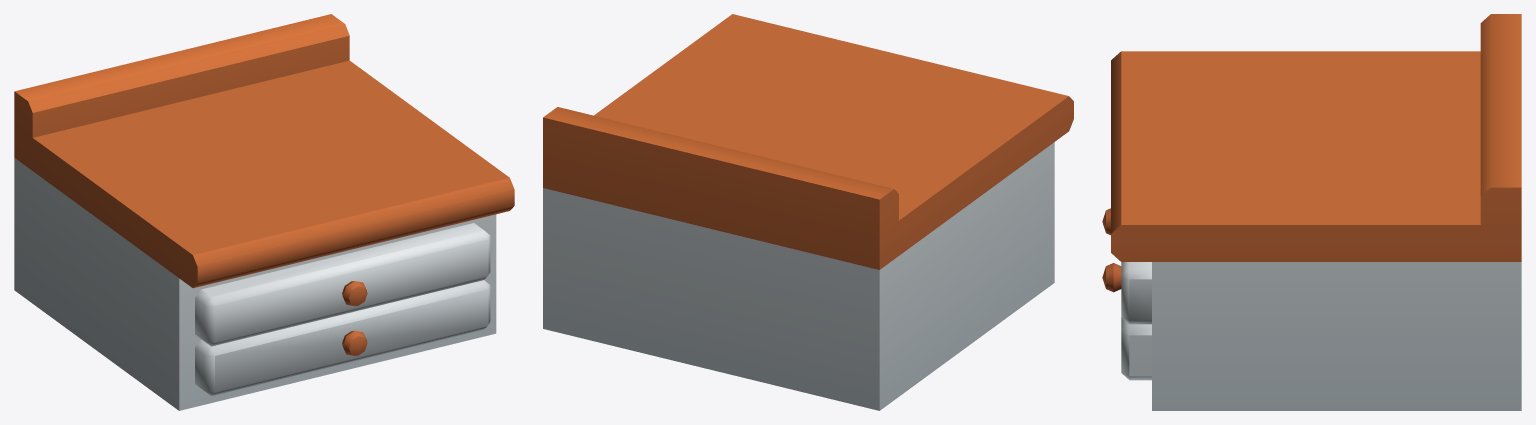
Rendered from kitchencounter_straight_A_backsplash.obj.
The picture shows the model from 3 angles, left to right: view 1: azimuth 30°, elevation 25°; view 2: azimuth 150°, elevation 25°; view 3: azimuth 270°, elevation 25°; orthographic projection. The views are drawn at different scales.
Visible parts, largest first — view 1: kitchencounter_straight_A_backsplash_Cube.894; view 2: kitchencounter_straight_A_backsplash_Cube.894; view 3: kitchencounter_straight_A_backsplash_Cube.894.
Boxes of the visible parts, bbox=[...] form: kitchencounter_straight_A_backsplash_Cube.894: bbox=[14, 14, 514, 410]; kitchencounter_straight_A_backsplash_Cube.894: bbox=[543, 14, 1073, 410]; kitchencounter_straight_A_backsplash_Cube.894: bbox=[1102, 14, 1521, 410].
Size of the model in its own units: 2 by 1.2 by 2.04.
Materials: 1 (1 with a texture image).
